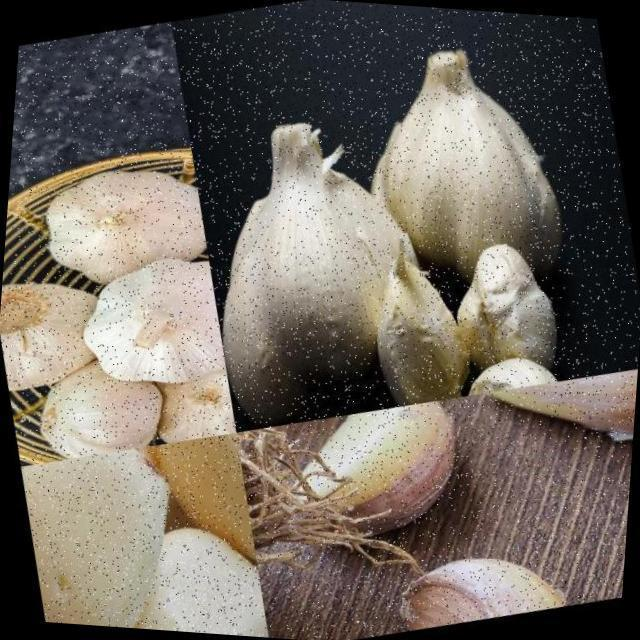garlic: (168, 90, 452, 443), (330, 17, 584, 307), (9, 417, 285, 638), (260, 385, 488, 597), (442, 351, 638, 527), (28, 143, 216, 300), (66, 240, 233, 400), (354, 237, 486, 412), (437, 232, 577, 382), (0, 259, 140, 401), (388, 533, 562, 640), (18, 345, 166, 470), (134, 338, 240, 449), (454, 338, 566, 402)
